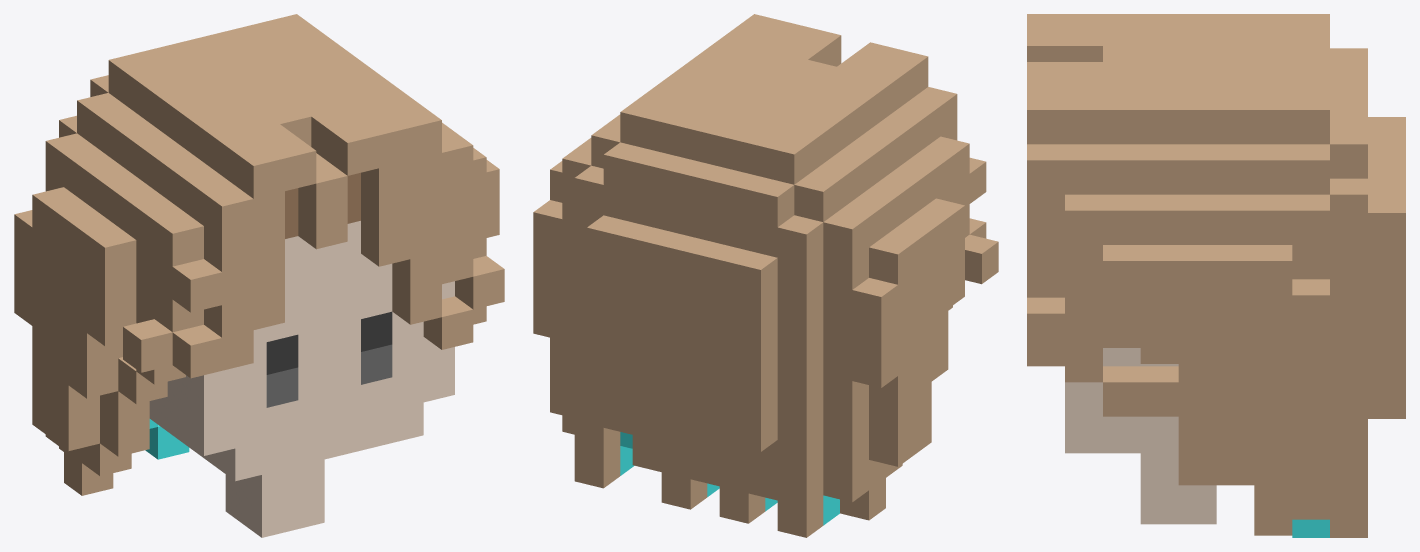
The model's file is character head modeling.obj.
The picture shows the model from 3 angles, left to right: view 1: azimuth 30°, elevation 25°; view 2: azimuth 150°, elevation 25°; view 3: azimuth 270°, elevation 25°; orthographic projection. The views are drawn at different scales.
Bounding box in the file's own units: 1.2 × 1.3 × 1.
1 material, 1 textured.
